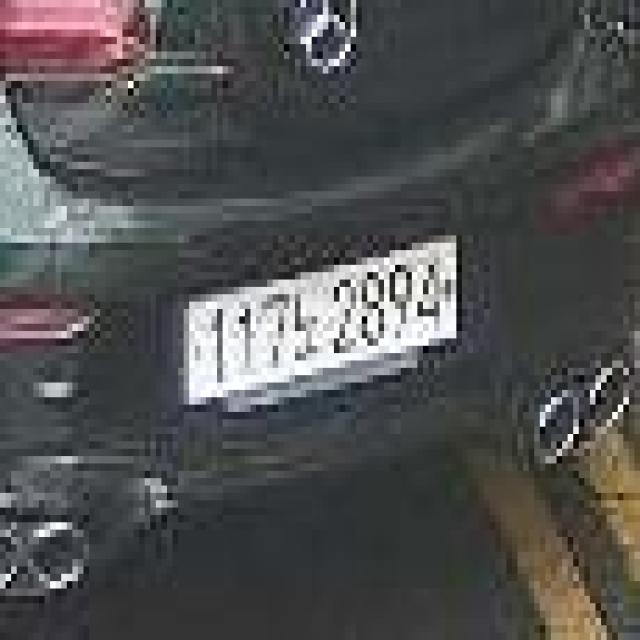illegal_plate: (178, 232, 464, 418)
